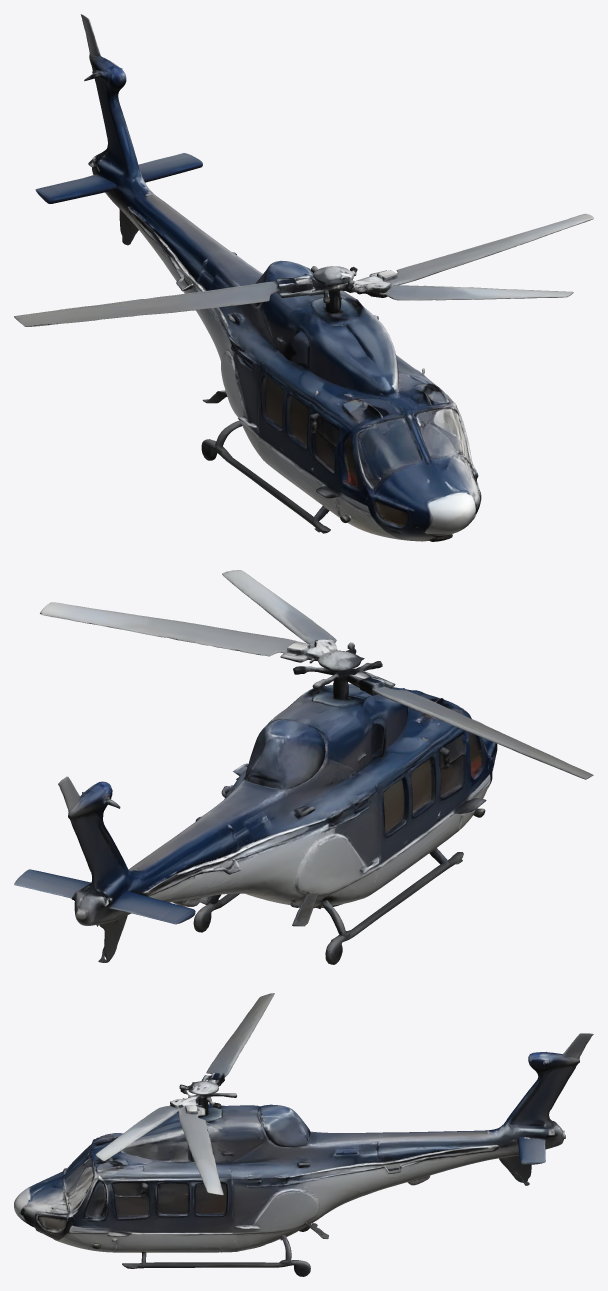
File: helicoptero_executivo.glb
3 renders of one model, top to bottom at view 1: azimuth 30°, elevation 25°; view 2: azimuth 150°, elevation 25°; view 3: azimuth 270°, elevation 25°, orthographic. The views are drawn at different scales.
Visible parts, largest first — view 1: corpo, rotor; view 2: corpo, rotor; view 3: corpo, rotor.
Part boxes in pixels (x1,y1,x2,y2): corpo: (35,14,481,541); rotor: (14,118,593,326); corpo: (14,642,497,964); rotor: (40,570,593,853); corpo: (14,1033,593,1276); rotor: (95,993,535,1195).
Bounding box in the file's own units: 10.17 × 5.27 × 12.5.
1 material, 1 textured.
